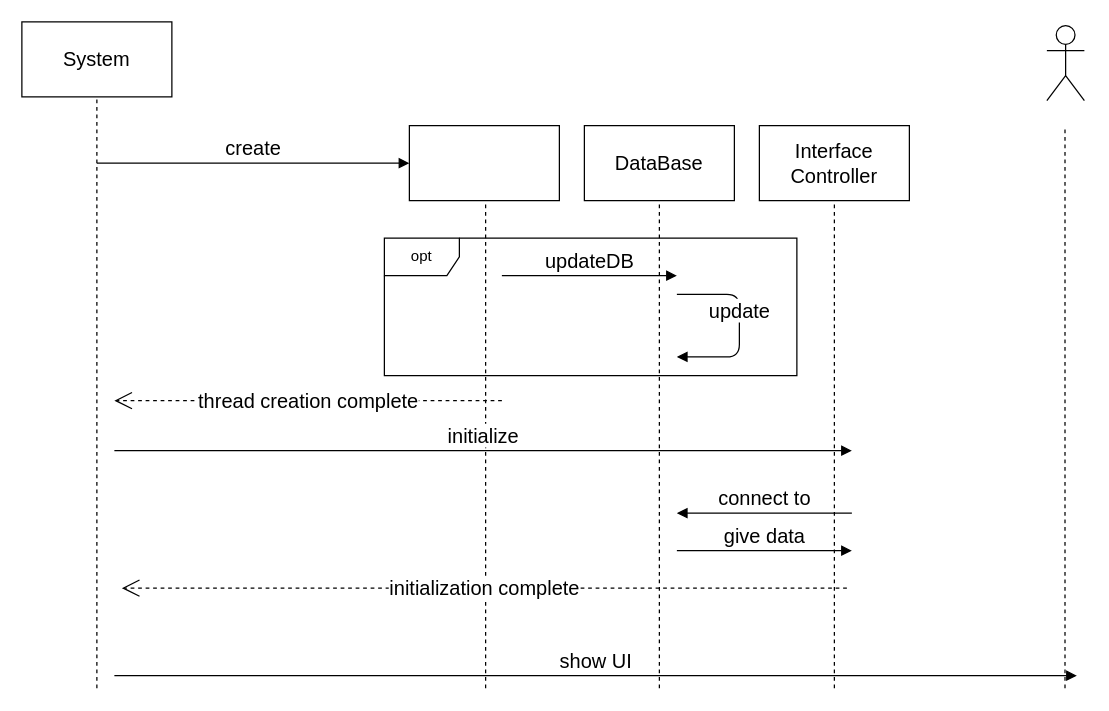
Image size: 1109x711. Some labels were removed from this diagram. Each missing label, with the box of its shape:
LeaderBoard Thread: (408, 124, 559, 201)
User: (1046, 24, 1084, 101)
